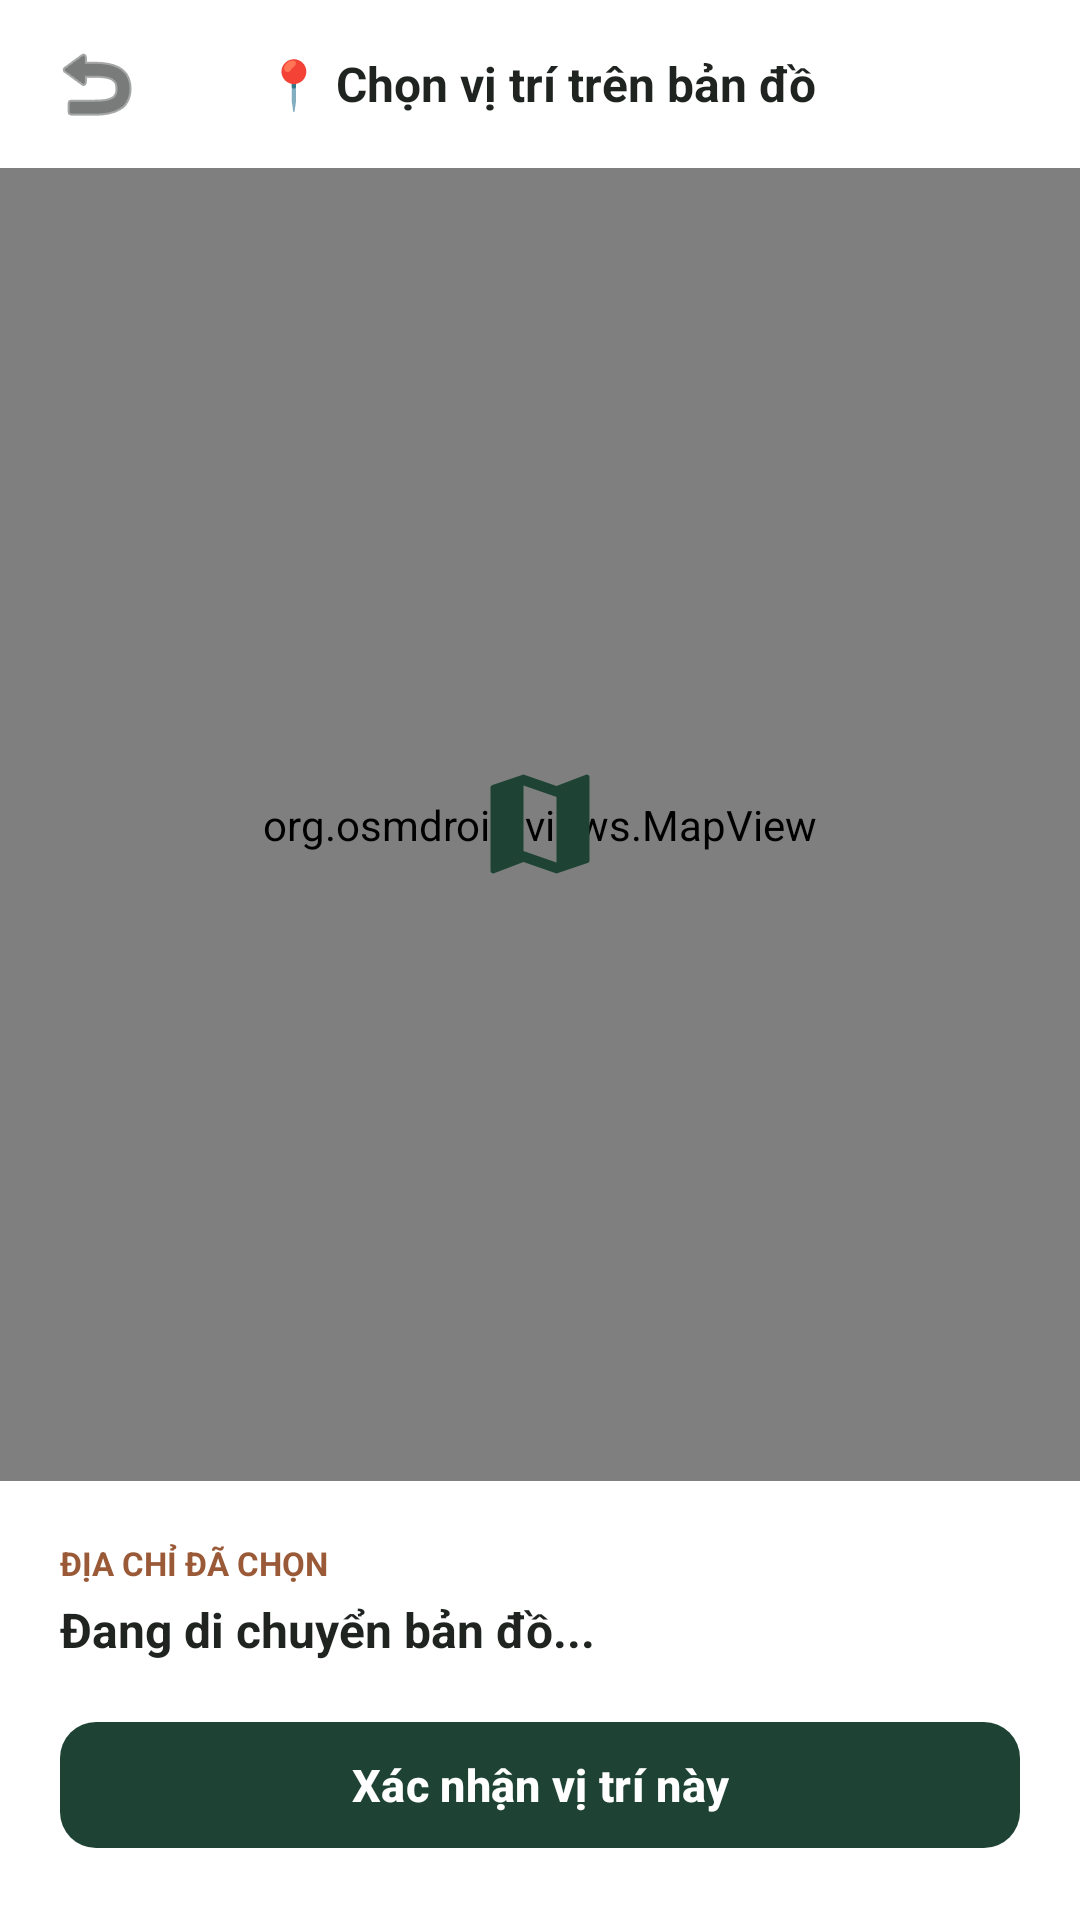

Screen size 1080px×1920px. Icon name, then its center in pixels as [x,y]:
Back: [97,84]
